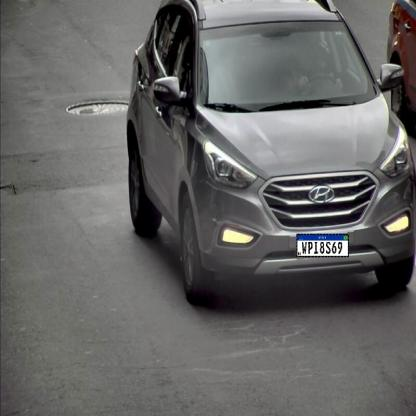PlacaM: (296, 234, 349, 257)
